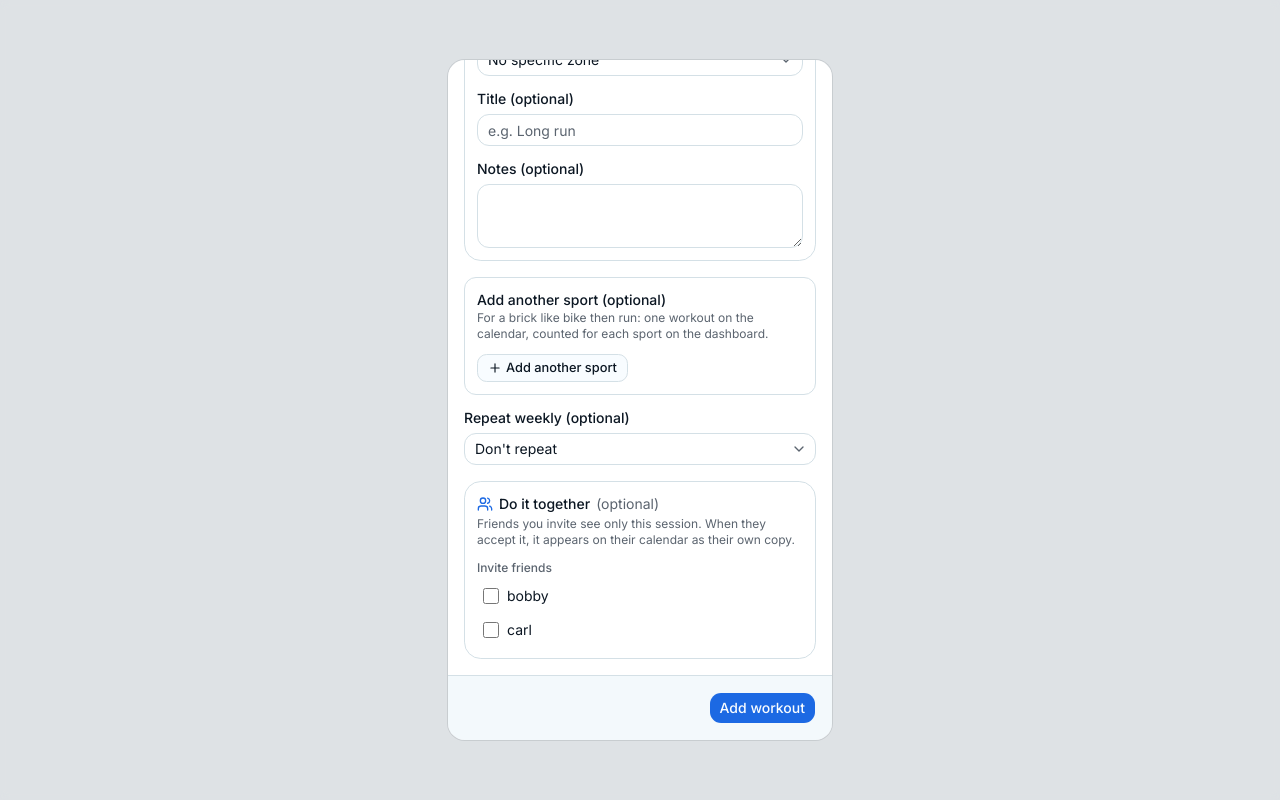
Test: WorkoutFormDialog: adding a workout together with friends › turns off weekly repeat while friends are picked
(page scrolled)
Expected: the dropdown labelled "Don't repeat" is enabled, [464,433,816,465]
Click the checkbox labelled "bobby" at point(491, 596), box [483,588,499,604]
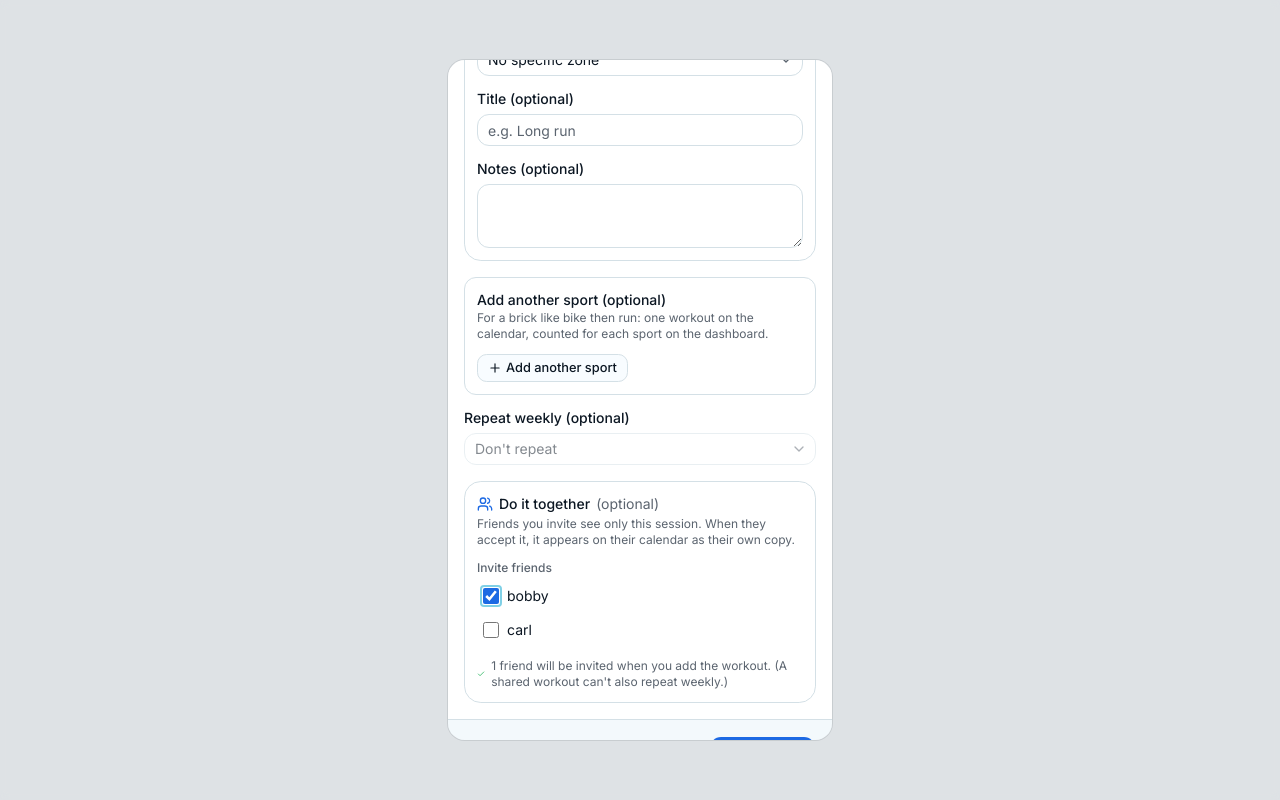
Expected: the dropdown labelled "Don't repeat" is disabled, [464,433,816,465]
Click the checkbox labelled "bobby" at point(491, 596), box [483,588,499,604]
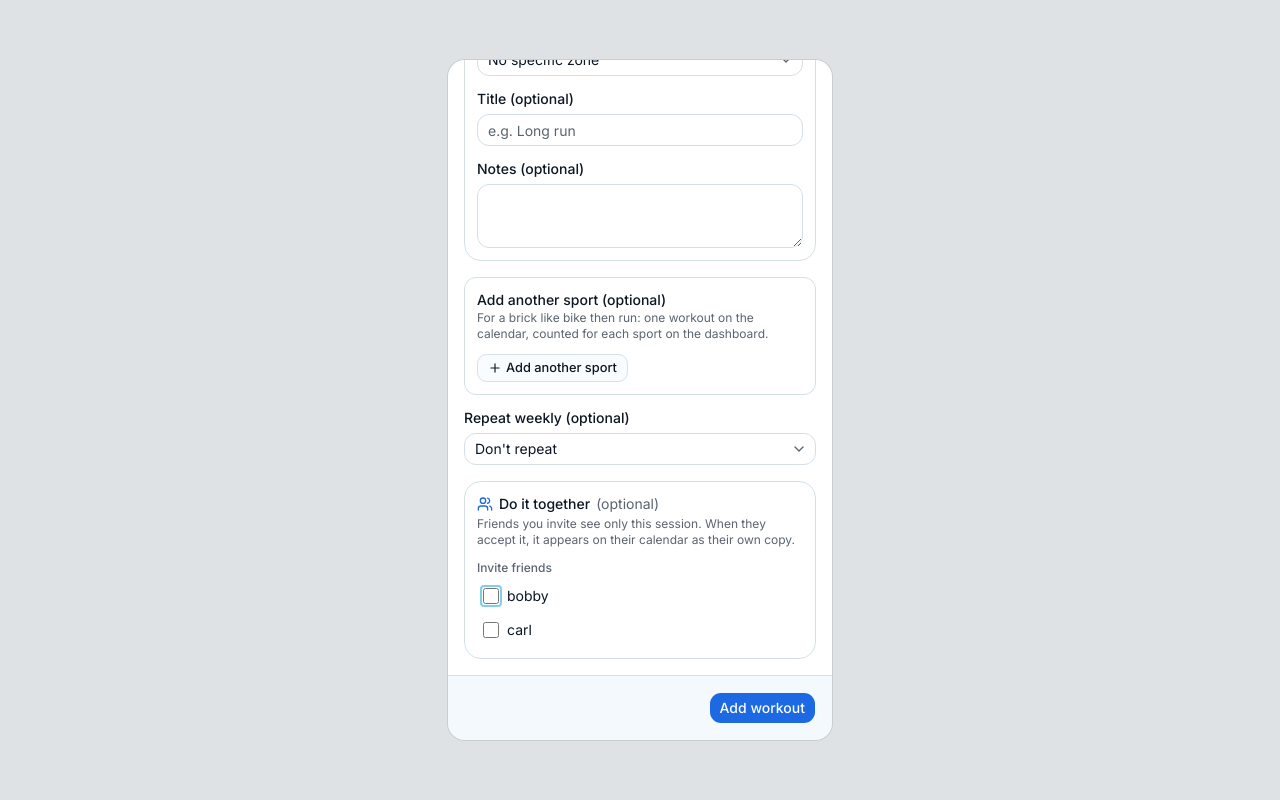
Expected: the dropdown labelled "Don't repeat" is enabled, [464,433,816,465]
